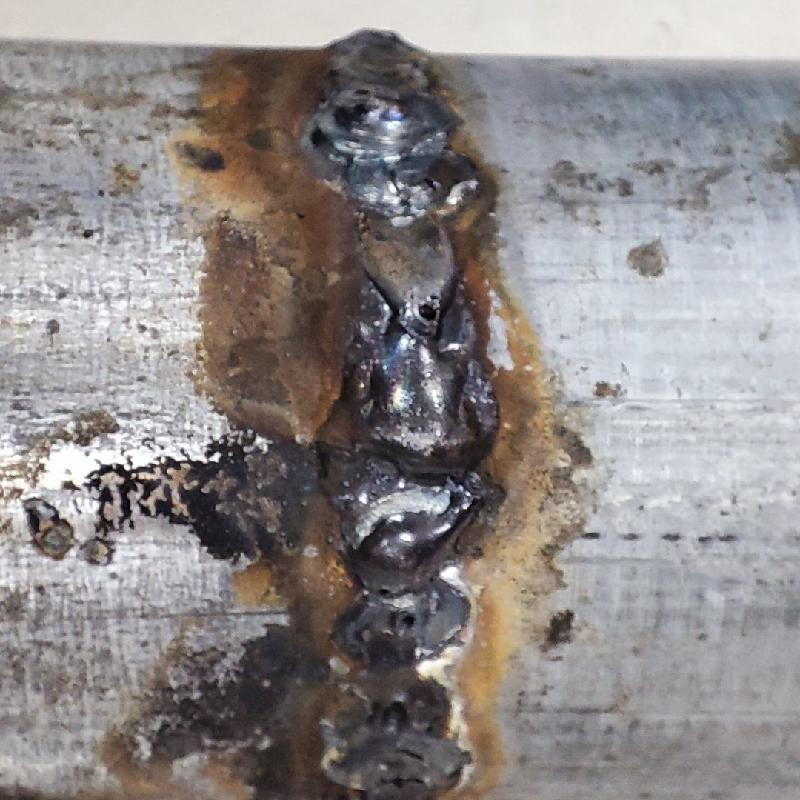Not_fully_soldered: (331, 588, 478, 798), (341, 160, 481, 335)
Surface_pores: (403, 283, 449, 329), (371, 577, 404, 606)
Weld: (332, 331, 502, 608)
wrong_size: (305, 28, 458, 164)
